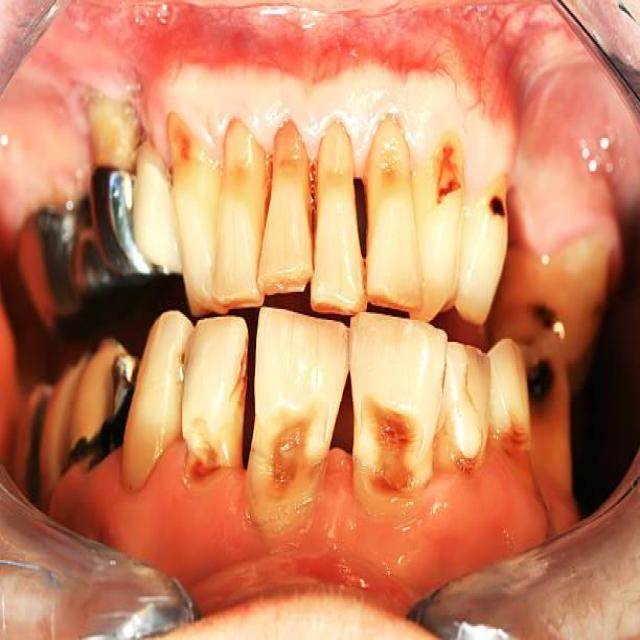caries: (244, 396, 328, 537), (354, 380, 429, 513), (429, 337, 493, 477), (359, 112, 413, 229), (84, 93, 147, 193), (221, 112, 272, 232), (182, 400, 245, 494), (163, 110, 219, 204), (416, 133, 471, 228), (63, 401, 125, 485), (272, 118, 317, 224), (318, 122, 365, 218), (520, 338, 567, 426), (524, 278, 580, 351), (477, 180, 524, 257), (494, 392, 536, 468)
